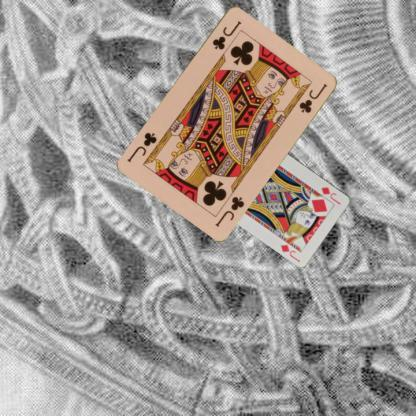Jc: (212, 193, 246, 228), (210, 18, 243, 51)
Jd: (319, 184, 342, 206)
